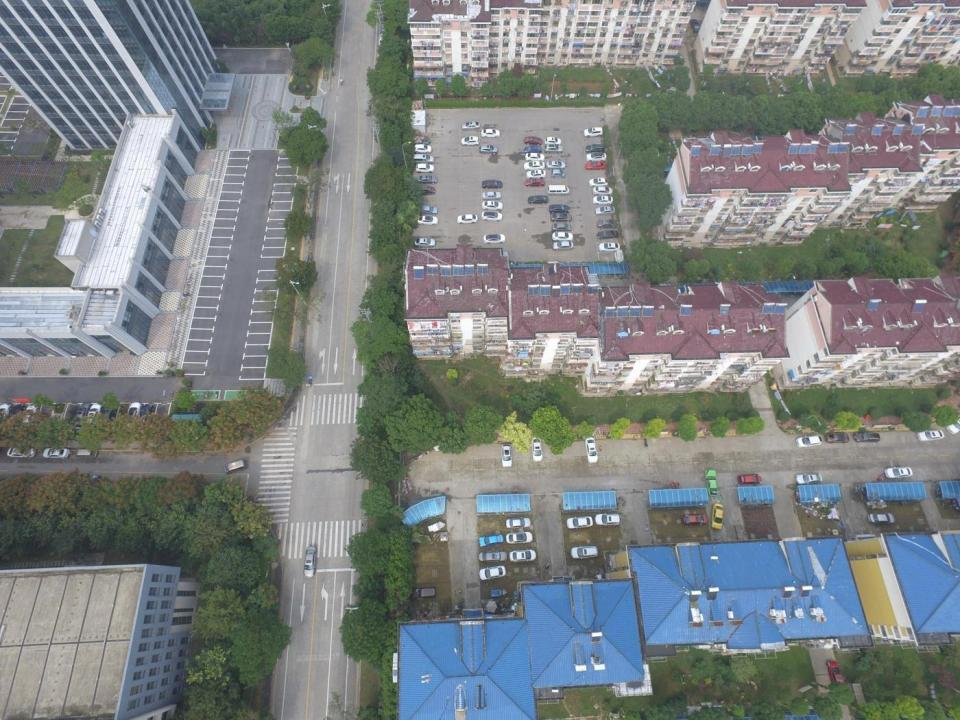car: (826, 660, 846, 688), (303, 546, 318, 578), (7, 404, 25, 428), (702, 469, 718, 496), (570, 545, 598, 559), (126, 402, 142, 426), (479, 566, 506, 580), (594, 512, 621, 526), (884, 466, 913, 479), (22, 404, 39, 426), (86, 404, 103, 426), (584, 437, 598, 463), (505, 531, 533, 544), (509, 549, 537, 562), (867, 511, 895, 524), (6, 446, 36, 458), (138, 404, 154, 426), (710, 503, 723, 530), (795, 472, 822, 485), (479, 550, 508, 562), (916, 429, 945, 441), (505, 516, 531, 529), (76, 402, 90, 426), (500, 443, 513, 468), (411, 587, 437, 599), (567, 516, 593, 528), (682, 513, 708, 525), (737, 473, 763, 485), (102, 404, 116, 426), (42, 448, 70, 459), (479, 534, 504, 546), (945, 414, 960, 434), (796, 436, 823, 447), (0, 404, 12, 427), (853, 432, 880, 442), (532, 437, 543, 461), (824, 433, 850, 443), (414, 237, 436, 248), (481, 200, 503, 211), (480, 211, 502, 222), (483, 233, 505, 244), (457, 213, 478, 224), (485, 250, 508, 260), (413, 185, 435, 195), (481, 179, 503, 189), (583, 126, 603, 137), (417, 215, 438, 225), (599, 242, 620, 252), (553, 241, 574, 251), (592, 195, 613, 205), (418, 205, 438, 215), (415, 163, 435, 173), (410, 135, 430, 145), (550, 213, 572, 222), (548, 204, 570, 213), (596, 231, 618, 240), (527, 195, 549, 204), (585, 152, 607, 161), (413, 144, 432, 154), (589, 177, 608, 187), (544, 144, 563, 154), (416, 175, 437, 184), (552, 232, 573, 241), (592, 186, 613, 195), (524, 161, 545, 170), (461, 136, 479, 146), (482, 128, 500, 138), (480, 145, 498, 155), (595, 206, 615, 215), (525, 153, 545, 162), (586, 161, 606, 170), (461, 121, 480, 130), (524, 136, 543, 145), (597, 220, 618, 228), (525, 178, 545, 186), (546, 160, 566, 168), (526, 170, 546, 178), (552, 224, 571, 232), (550, 169, 566, 178), (524, 146, 542, 154), (544, 136, 562, 144), (586, 144, 604, 152), (690, 19, 701, 32), (482, 192, 501, 199), (378, 34, 387, 46), (381, 21, 388, 33)
van: (224, 459, 248, 473), (413, 153, 435, 164), (547, 185, 569, 195), (76, 449, 98, 458)
